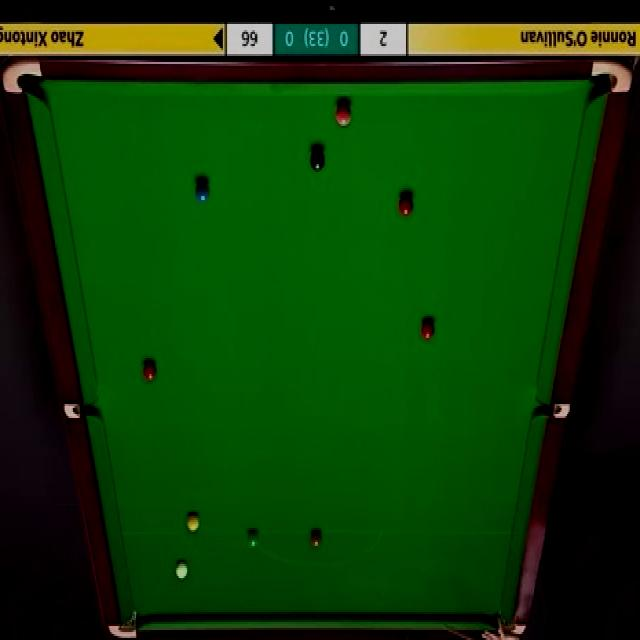pocket: (0, 56, 43, 98), (591, 60, 633, 95), (110, 608, 141, 640), (64, 400, 101, 422), (494, 605, 524, 632), (535, 405, 573, 420)
